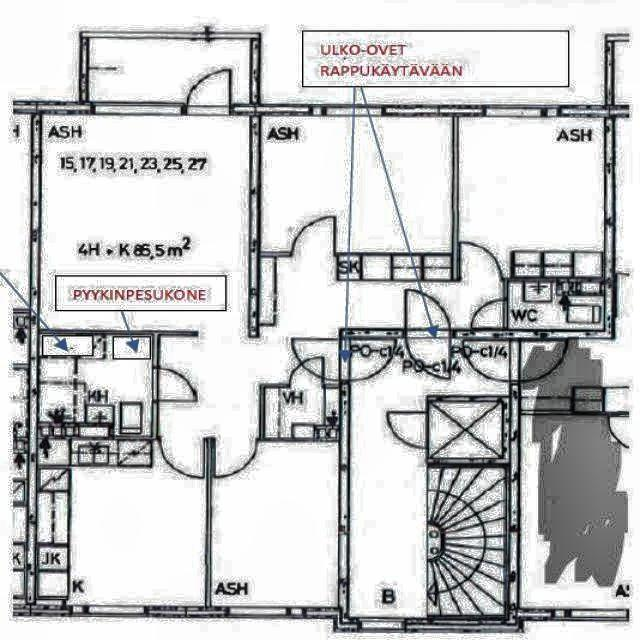room: (40, 115, 250, 330), (37, 438, 206, 605), (260, 117, 455, 254), (459, 118, 607, 278), (212, 439, 341, 607), (39, 334, 152, 436), (508, 281, 604, 330), (265, 387, 340, 440)
